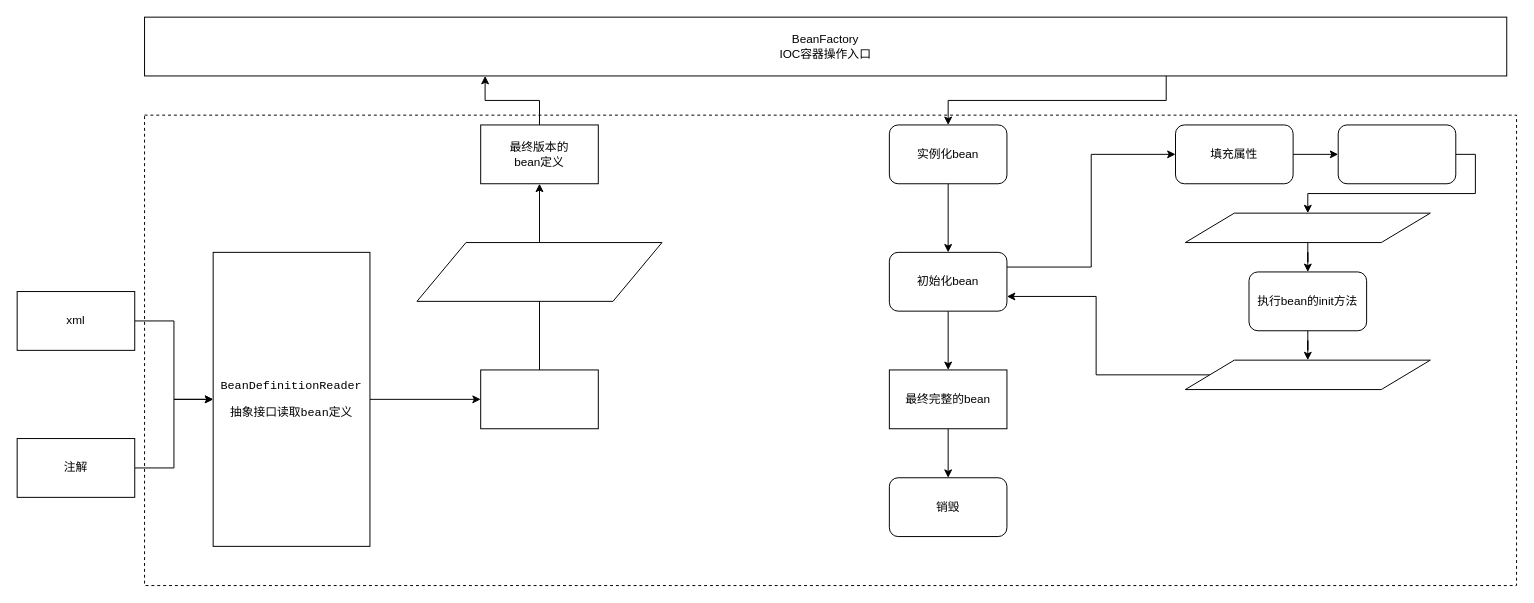
This 1534x603 diagram has some shape labels left out. Here are the shapes that lost their labels. From the top down, the centre of each, then its label:
(x=1396, y=154): Aware接口填充属性
(x=1307, y=227): BeanPostProcessor.before bean增强，如AOP
(x=539, y=271): BeanFactoryPostProcessor 定义的增强，如替换planceholder
(x=1307, y=374): BeanPostProcessor.after bean增强，如AOP
(x=539, y=399): BeanDefinition bean的定义
